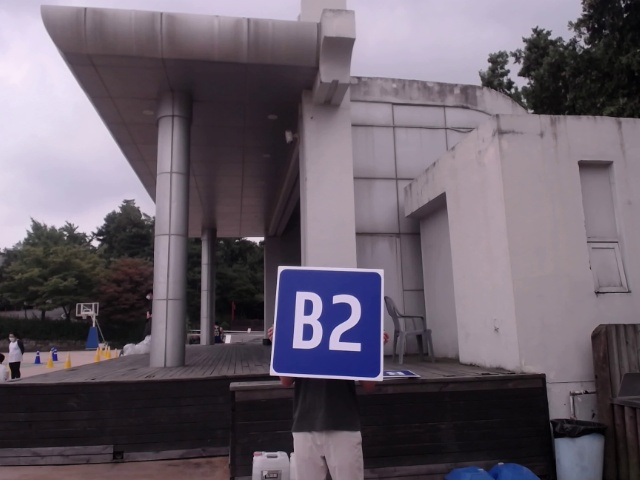delivery_b2: (274, 263, 384, 377)
